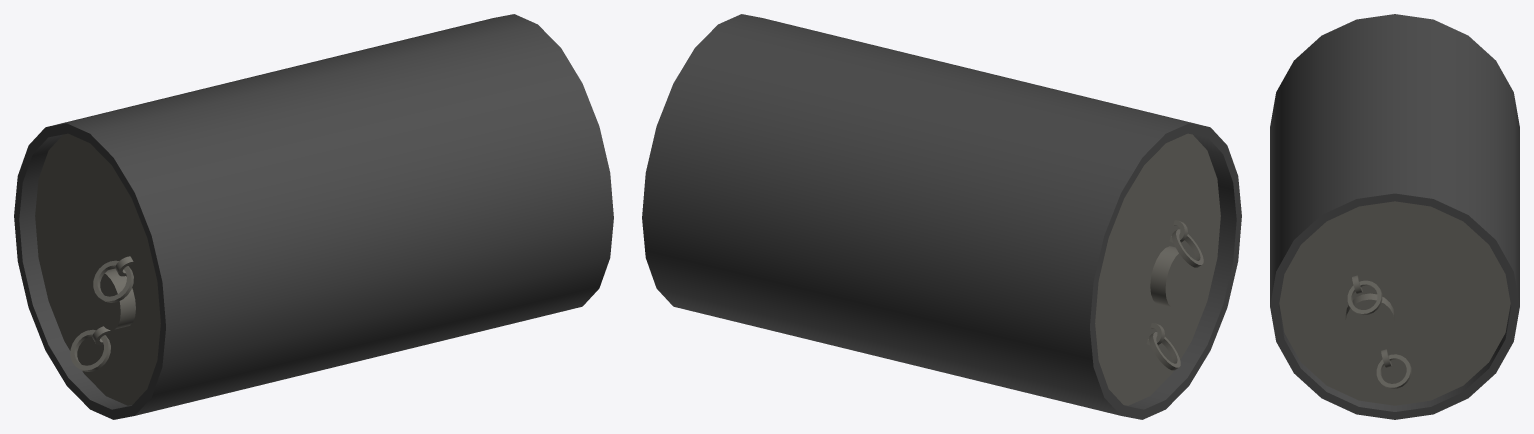
The model's file is Depth Charge.fbx.
3 views of the same model, side by side, from view 1: azimuth 30°, elevation 25°; view 2: azimuth 150°, elevation 25°; view 3: azimuth 270°, elevation 25° (orthographic). The views are drawn at different scales.
Visible parts, largest first — view 1: Cylinder; view 2: Cylinder; view 3: Cylinder.
Part boxes in pixels (<box>): Cylinder: <box>14,14,613,419</box>; Cylinder: <box>642,14,1241,419</box>; Cylinder: <box>1270,14,1519,419</box>.
Bounding box in the file's own units: 702 × 390 × 390.
Materials: 1 (1 with a texture image).
